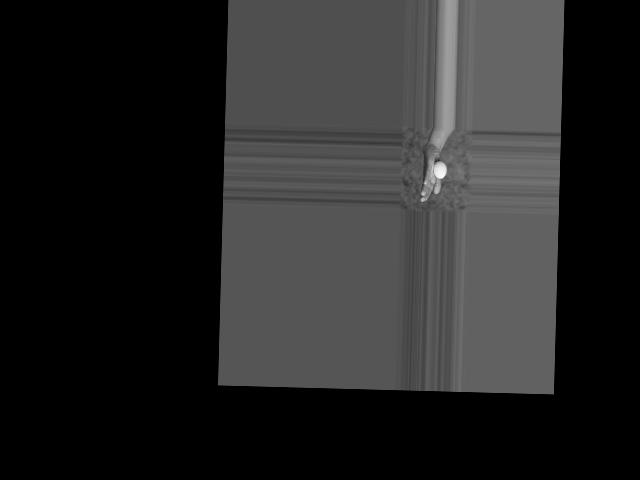egg: (433, 160, 447, 178)
